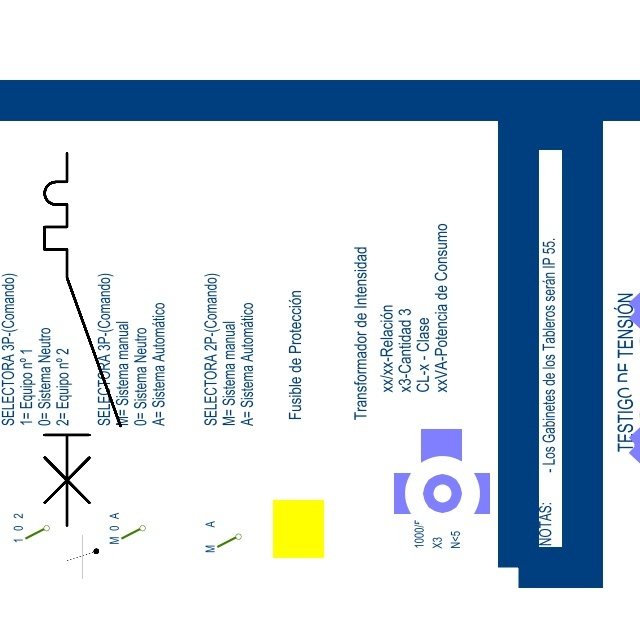interruptor_termomagnetico: (35, 144, 130, 535)
